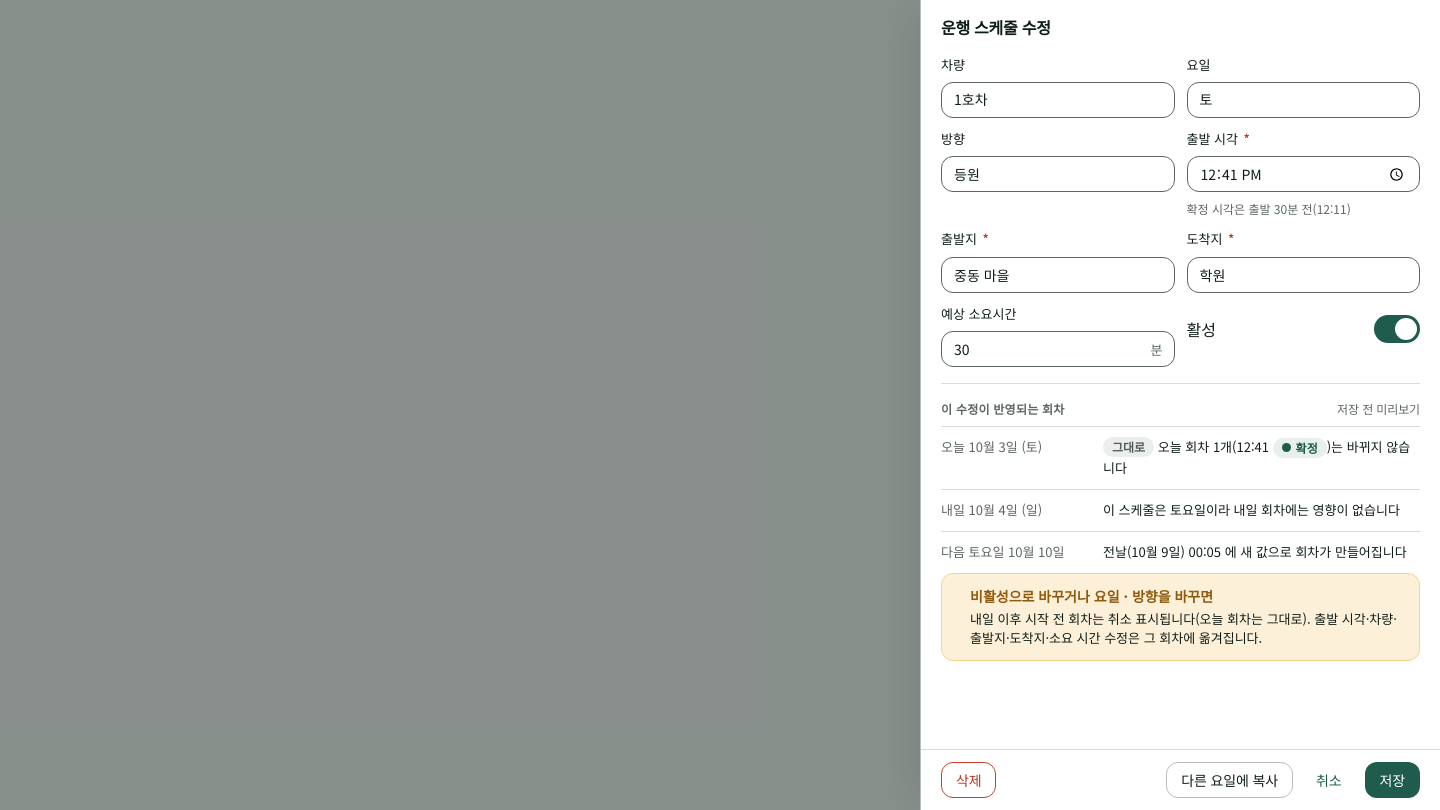
Test: ScheduleForm — 수정 미리보기 › 토요일 스케줄은 오늘 회차가 바뀌지 않고 내일(일) 회차에는 영향이 없다고 말하며, 요일을 일요일로 바꾸면 내일 회차가 만들어진다고 바뀐다
Expected: the element labelled "이 수정이 반영되는 회차" shows "오늘 회차 1개(12:41", x1=941 y1=383 x2=1420 y2=573
Expected: the element labelled "이 수정이 반영되는 회차" shows "바뀌지 않습니다", x1=1103 y1=437 x2=1410 y2=477
Select "일" in the dropdown showing "토" at (1303,100), box x1=1186 y1=82 x2=1420 y2=118
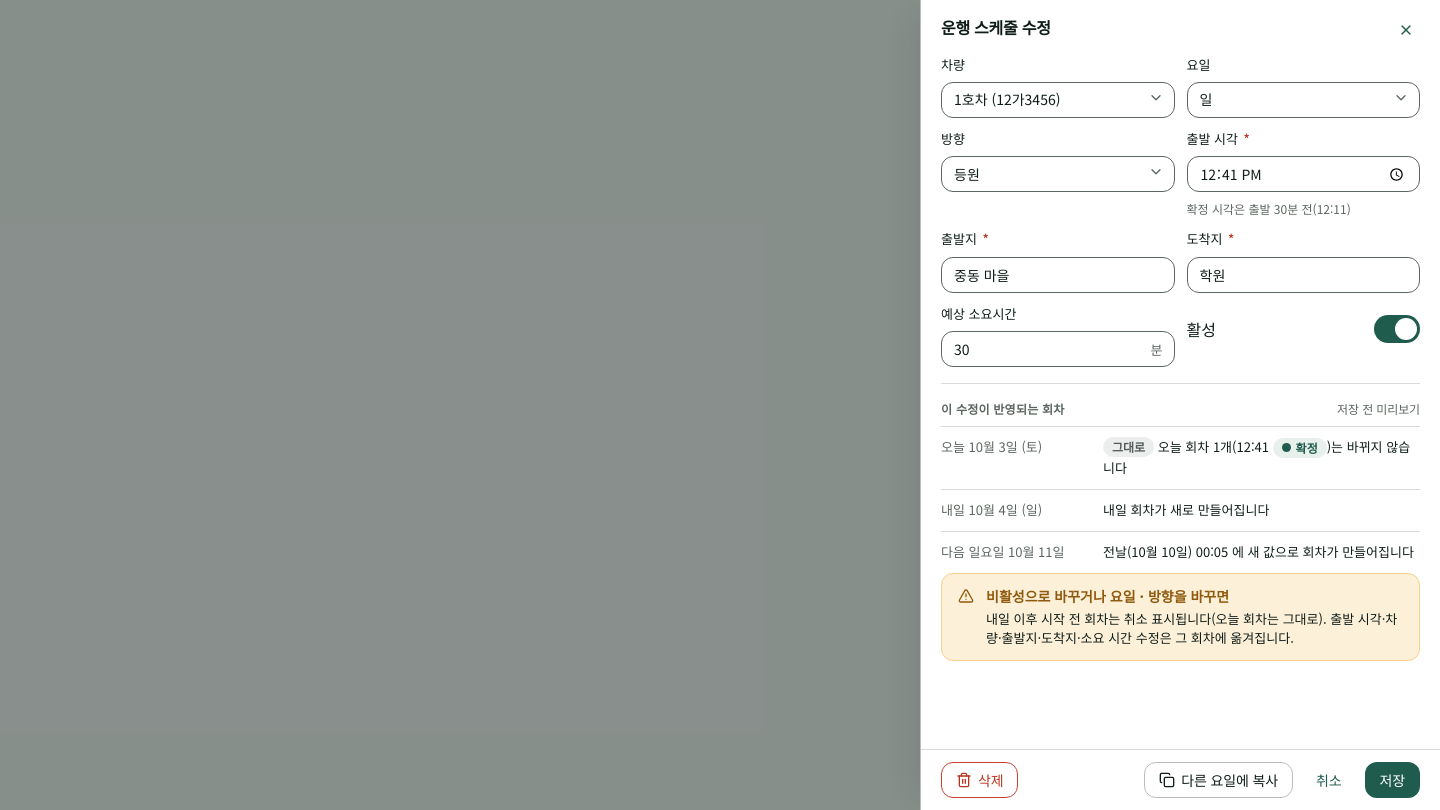
Expected: the button "삭제" is shown, x1=941 y1=762 x2=1018 y2=798
Now the element labelled "이 수정이 반영되는 회차" shows "내일 회차가 새로 만들어집니다", box x1=1103 y1=500 x2=1269 y2=519
